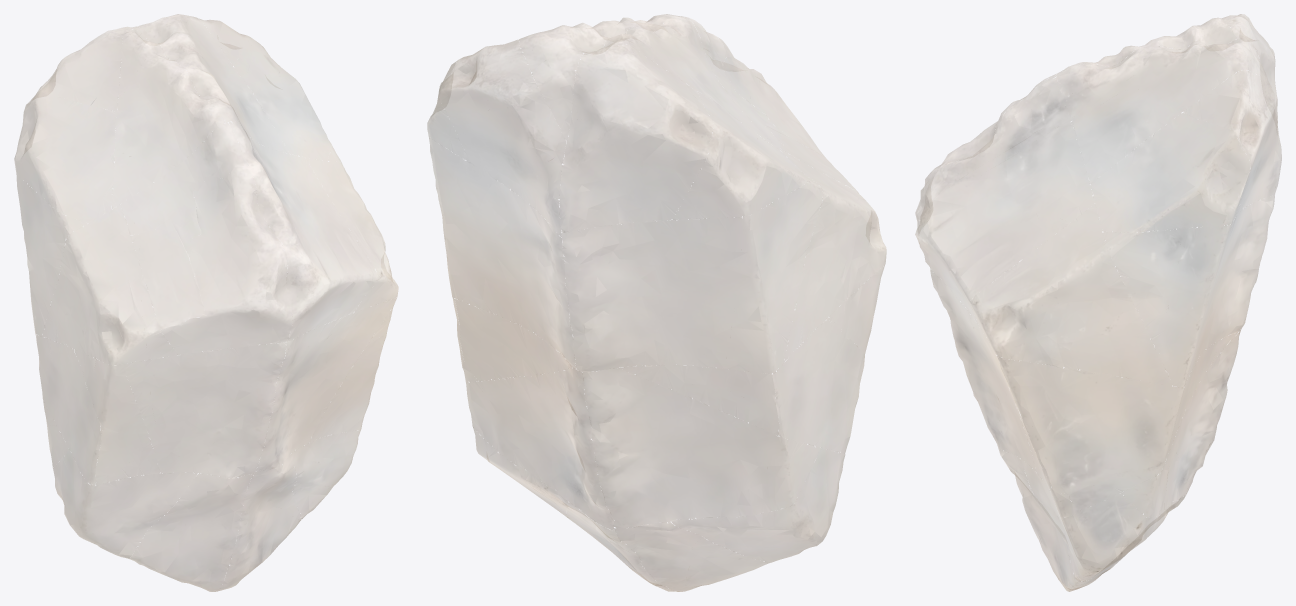
File: first-light-shard-slim.glb
The picture shows the model from 3 angles, left to right: view 1: azimuth 30°, elevation 25°; view 2: azimuth 150°, elevation 25°; view 3: azimuth 270°, elevation 25°; orthographic projection. The views are drawn at different scales.
Parts seen in each view (by area): view 1: tripo_node_80f49219-8456-44bb-98ce-15f8c8d22bd9; view 2: tripo_node_80f49219-8456-44bb-98ce-15f8c8d22bd9; view 3: tripo_node_80f49219-8456-44bb-98ce-15f8c8d22bd9.
Boxes of the visible parts, x1=… form: tripo_node_80f49219-8456-44bb-98ce-15f8c8d22bd9: x1=14, y1=14, x2=398, y2=591; tripo_node_80f49219-8456-44bb-98ce-15f8c8d22bd9: x1=427, y1=14, x2=886, y2=591; tripo_node_80f49219-8456-44bb-98ce-15f8c8d22bd9: x1=915, y1=14, x2=1281, y2=591.
Size of the model in its own units: 0.587 by 1 by 0.5977.
1 material, 1 textured.
